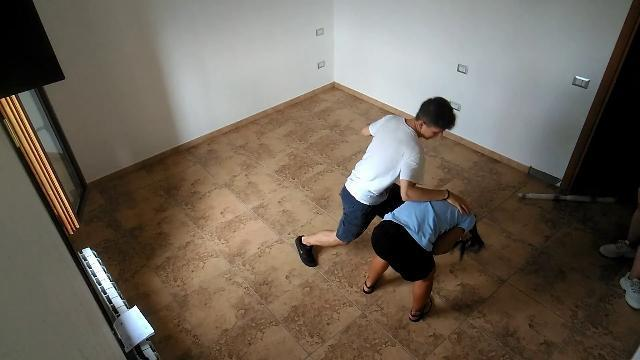non-violence: (599, 209, 640, 310)
violence: (293, 95, 485, 323)
